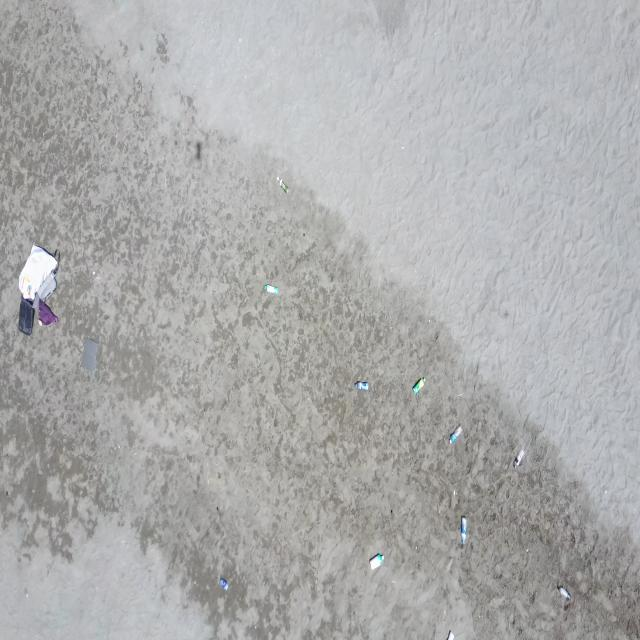plastic-bottle: (448, 424, 463, 445), (367, 553, 384, 571), (412, 376, 426, 396), (513, 447, 524, 469), (460, 516, 468, 546), (263, 282, 279, 296), (277, 176, 289, 194), (354, 380, 371, 392), (558, 586, 572, 600), (218, 578, 228, 592), (447, 629, 455, 640)
